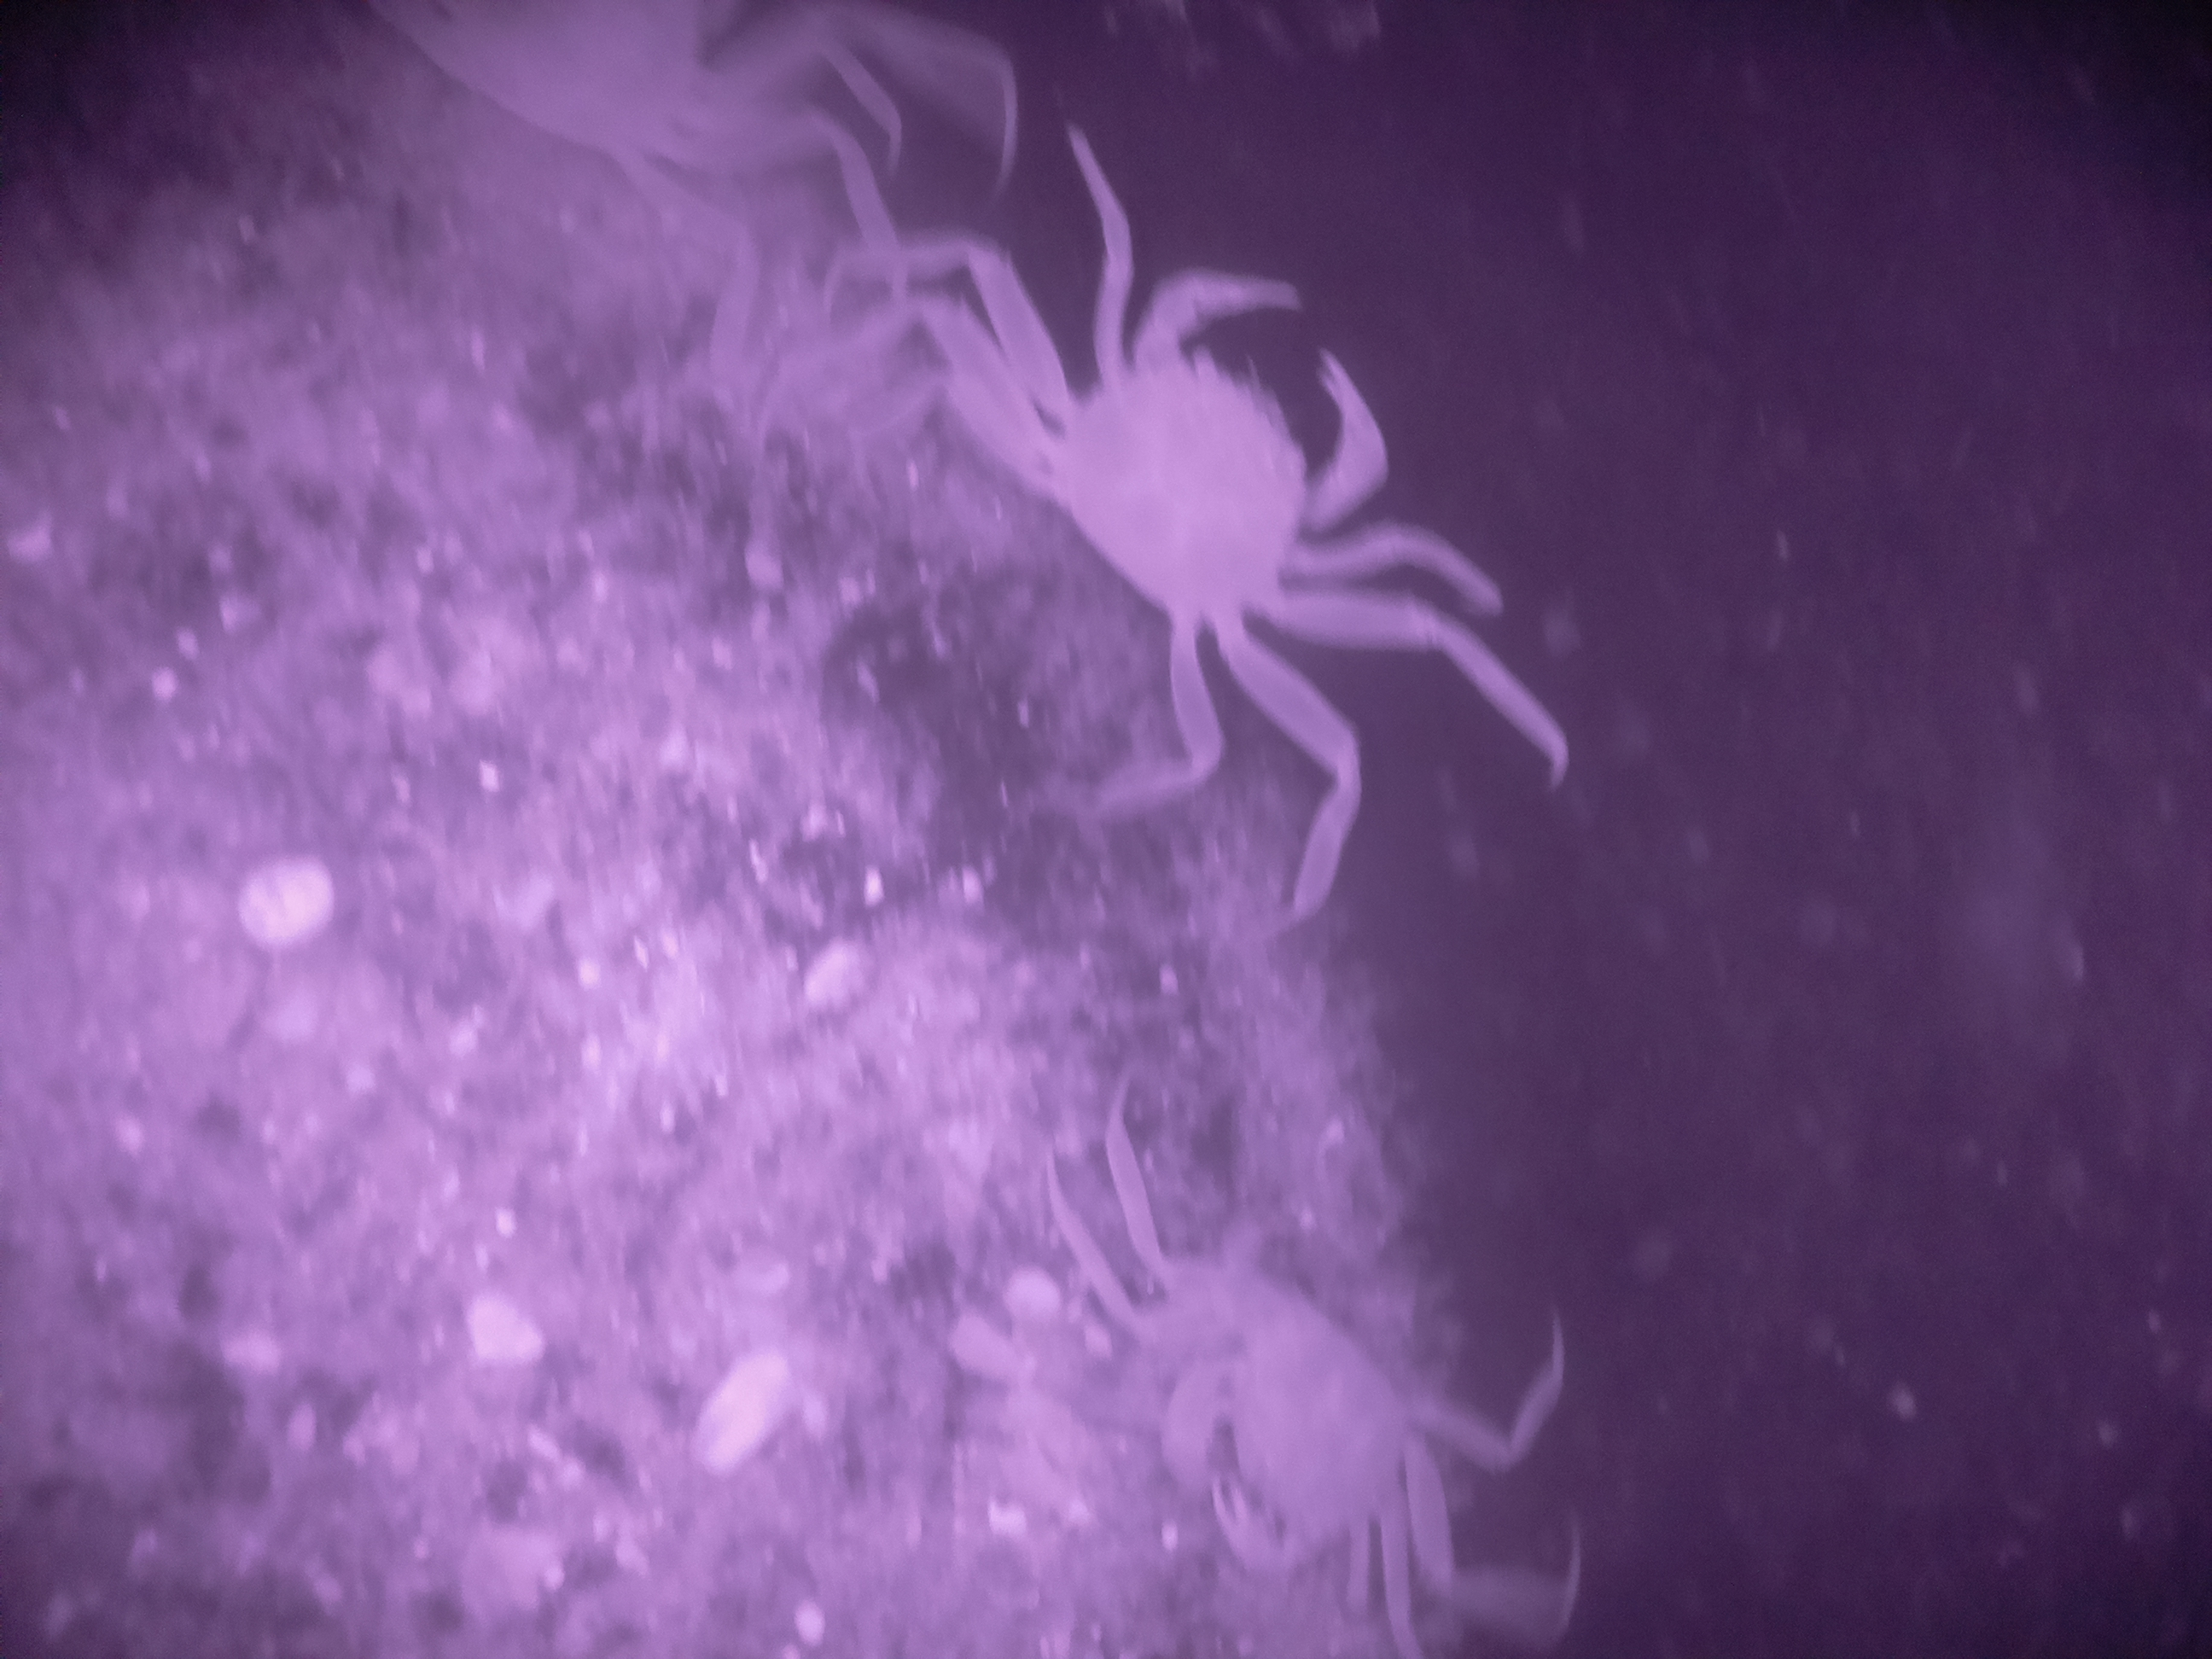Crab: (979, 209, 1418, 714), (1099, 1152, 1510, 1614)
